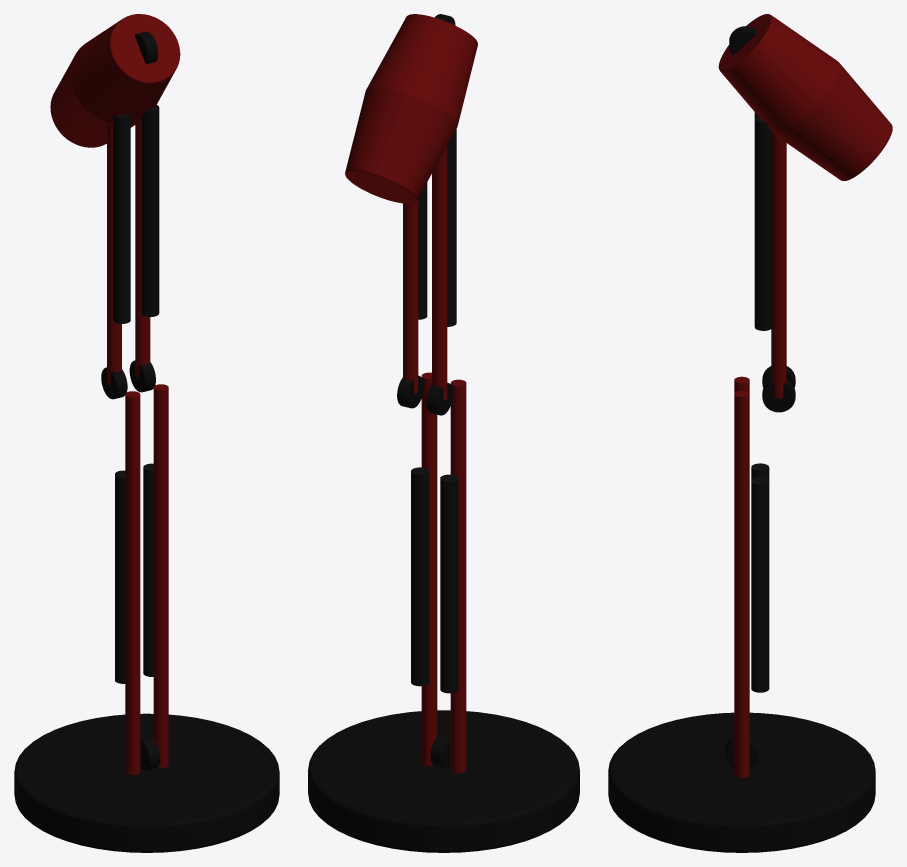
Rendered from Anglepoise_task_lamp.obj.
The picture shows the model from 3 angles, left to right: view 1: azimuth 30°, elevation 25°; view 2: azimuth 150°, elevation 25°; view 3: azimuth 270°, elevation 25°; orthographic projection. The views are drawn at different scales.
Visible parts, largest first — view 1: base, shade, arm.lower_1, arm.lower_2, spring.upper_2, spring.upper_1, spring.lower_1, spring.lower_2, arm.upper_2, arm.upper_1, pivot.elbow_2, pivot.elbow_1 (+2 smaller); view 2: base, shade, arm.lower_1, arm.lower_2, spring.lower_1, spring.lower_2, arm.upper_1, arm.upper_2, spring.upper_1, spring.upper_2, pivot.elbow_1, pivot.elbow_2 (+1 smaller); view 3: base, shade, arm.lower_2, spring.lower_2, arm.upper_2, spring.upper_2, pivot.elbow_2.
Boxes of the visible parts, <box> form: base: <box>14,713,279,852</box>; shade: <box>50,14,180,147</box>; arm.lower_1: <box>125,391,140,774</box>; arm.lower_2: <box>153,384,168,768</box>; spring.upper_2: <box>141,104,159,316</box>; spring.upper_1: <box>113,114,130,323</box>; spring.lower_1: <box>115,470,125,683</box>; spring.lower_2: <box>143,463,153,676</box>; arm.upper_2: <box>135,121,150,377</box>; arm.upper_1: <box>107,122,121,384</box>; pivot.elbow_2: <box>129,360,155,392</box>; pivot.elbow_1: <box>101,367,127,399</box>; base: <box>308,710,579,852</box>; shade: <box>345,14,477,203</box>; arm.lower_1: <box>450,379,466,773</box>; arm.lower_2: <box>421,372,437,765</box>; spring.lower_1: <box>440,474,458,693</box>; spring.lower_2: <box>411,467,428,686</box>; arm.upper_1: <box>432,146,447,400</box>; arm.upper_2: <box>403,199,418,393</box>; spring.upper_1: <box>447,129,456,326</box>; spring.upper_2: <box>418,182,427,319</box>; pivot.elbow_1: <box>426,382,453,415</box>; pivot.elbow_2: <box>397,375,423,408</box>; base: <box>608,712,875,852</box>; shade: <box>718,14,892,180</box>; arm.lower_2: <box>734,390,749,777</box>; spring.lower_2: <box>751,477,769,692</box>; arm.upper_2: <box>771,131,786,398</box>; spring.upper_2: <box>754,116,771,330</box>; pivot.elbow_2: <box>762,380,795,412</box>.
Bounding box in the file's own units: 0.21 × 0.675 × 0.2234.
